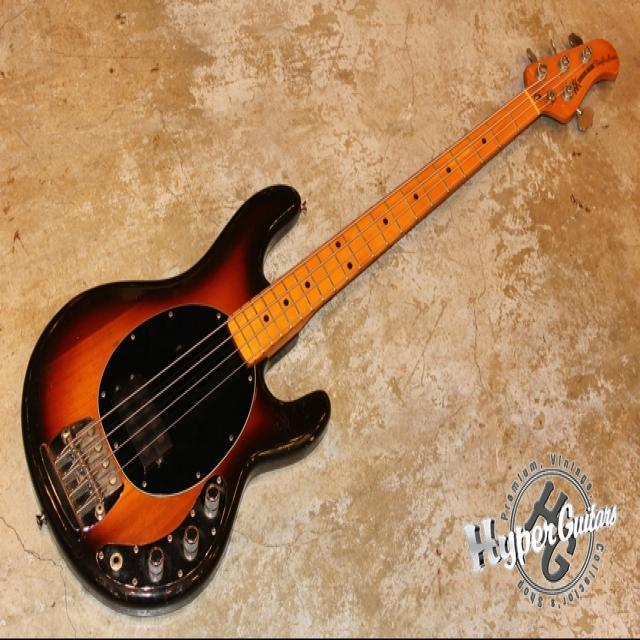bass: (22, 36, 618, 613)
